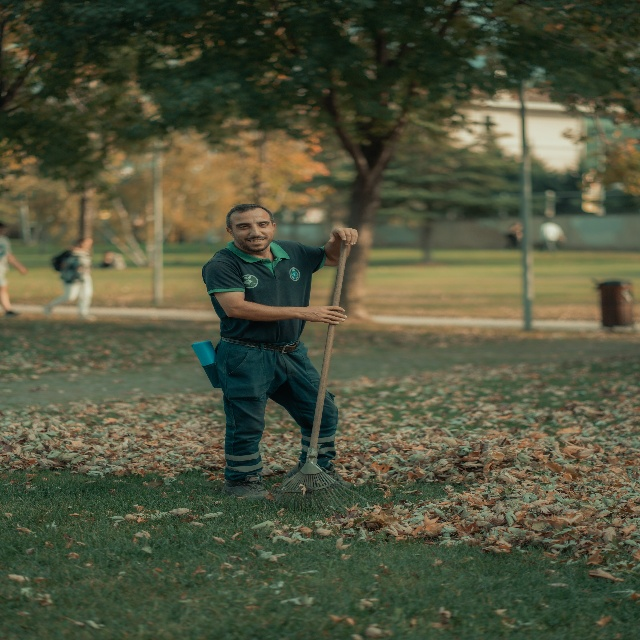Sin_guantes: (304, 303, 347, 329), (328, 224, 358, 249)
